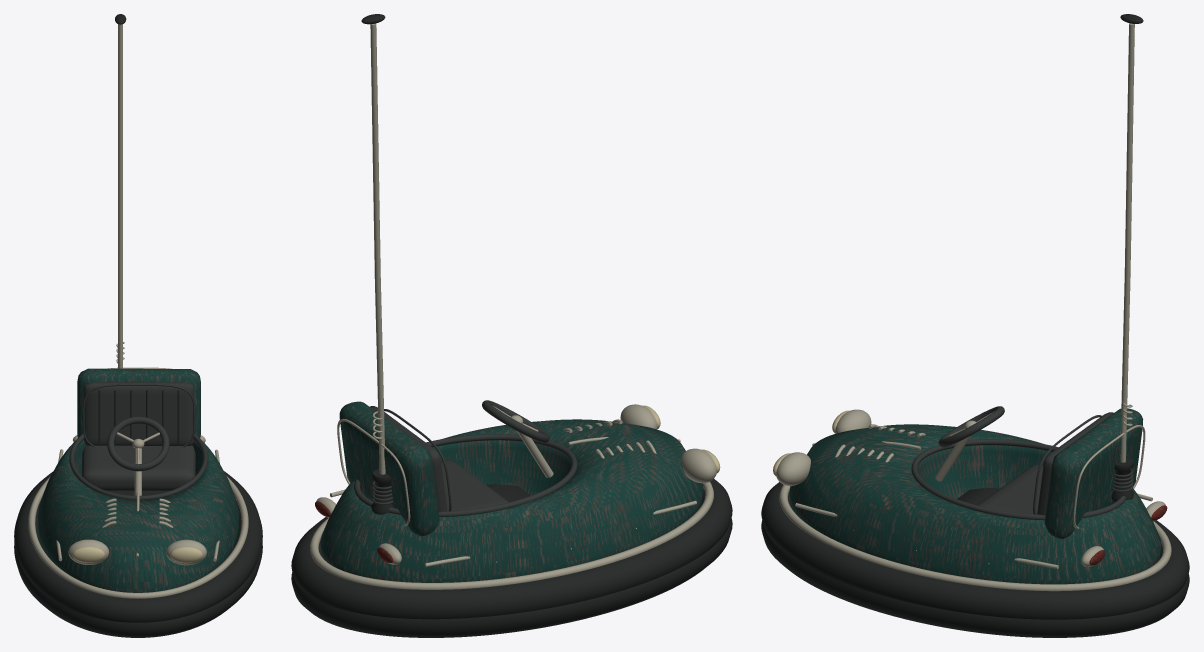
The model's file is SM_BumperCar_aa25262571.fbx.
3 renders of one model, left to right at view 1: azimuth 30°, elevation 25°; view 2: azimuth 150°, elevation 25°; view 3: azimuth 270°, elevation 25°, orthographic. The views are drawn at different scales.
Visible parts, largest first — view 1: SM_BumperCar_aa25262571; view 2: SM_BumperCar_aa25262571; view 3: SM_BumperCar_aa25262571.
Part boxes in pixels (left/top/right/bottom): SM_BumperCar_aa25262571: left=14, top=14, right=262, bottom=637; SM_BumperCar_aa25262571: left=291, top=14, right=732, bottom=637; SM_BumperCar_aa25262571: left=761, top=14, right=1189, bottom=637.
Size of what is drawn, in the model's own units: 202 by 248 by 373.
6 materials, 2 textured.
